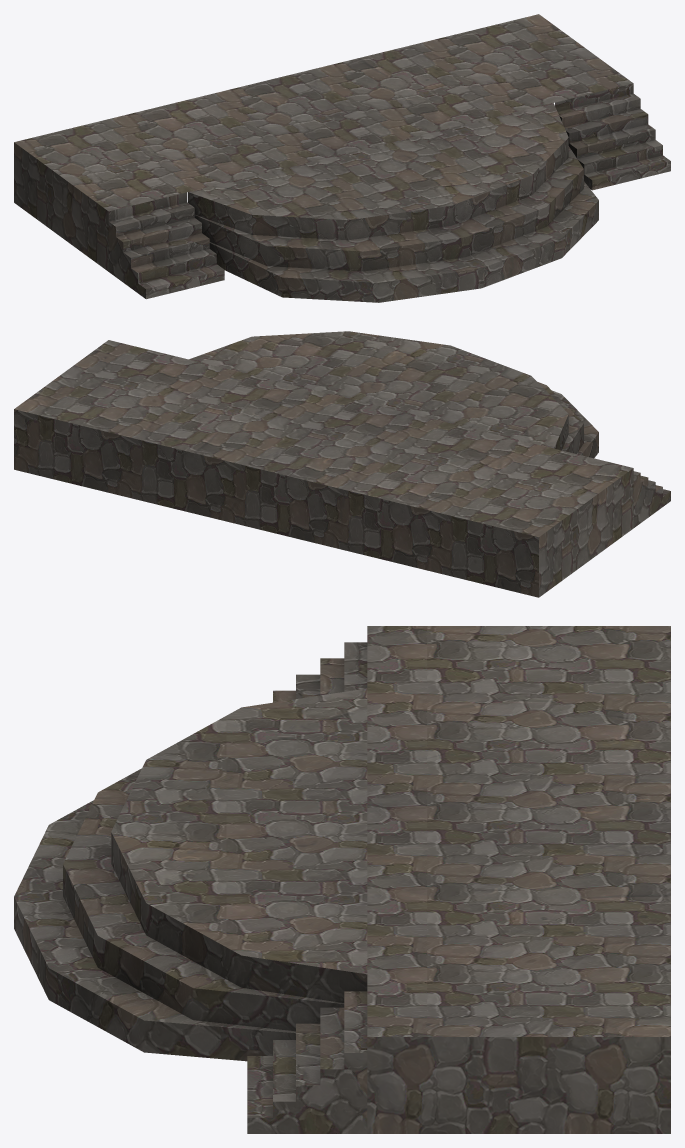
Rendered from Obj_escalas_trono_rey.fbx.
The picture shows the model from 3 angles, top to bottom: view 1: azimuth 30°, elevation 25°; view 2: azimuth 150°, elevation 25°; view 3: azimuth 270°, elevation 25°; orthographic projection. The views are drawn at different scales.
Parts seen in each view (by area): view 1: Obj_escala_trono; view 2: Obj_escala_trono; view 3: Obj_escala_trono.
Boxes of the visible parts, left/top/right/bottom form: Obj_escala_trono: left=14, top=14, right=670, bottom=302; Obj_escala_trono: left=14, top=331, right=670, bottom=597; Obj_escala_trono: left=14, top=626, right=670, bottom=1133.
Size of the model in its own units: 595 by 65.44 by 402.
